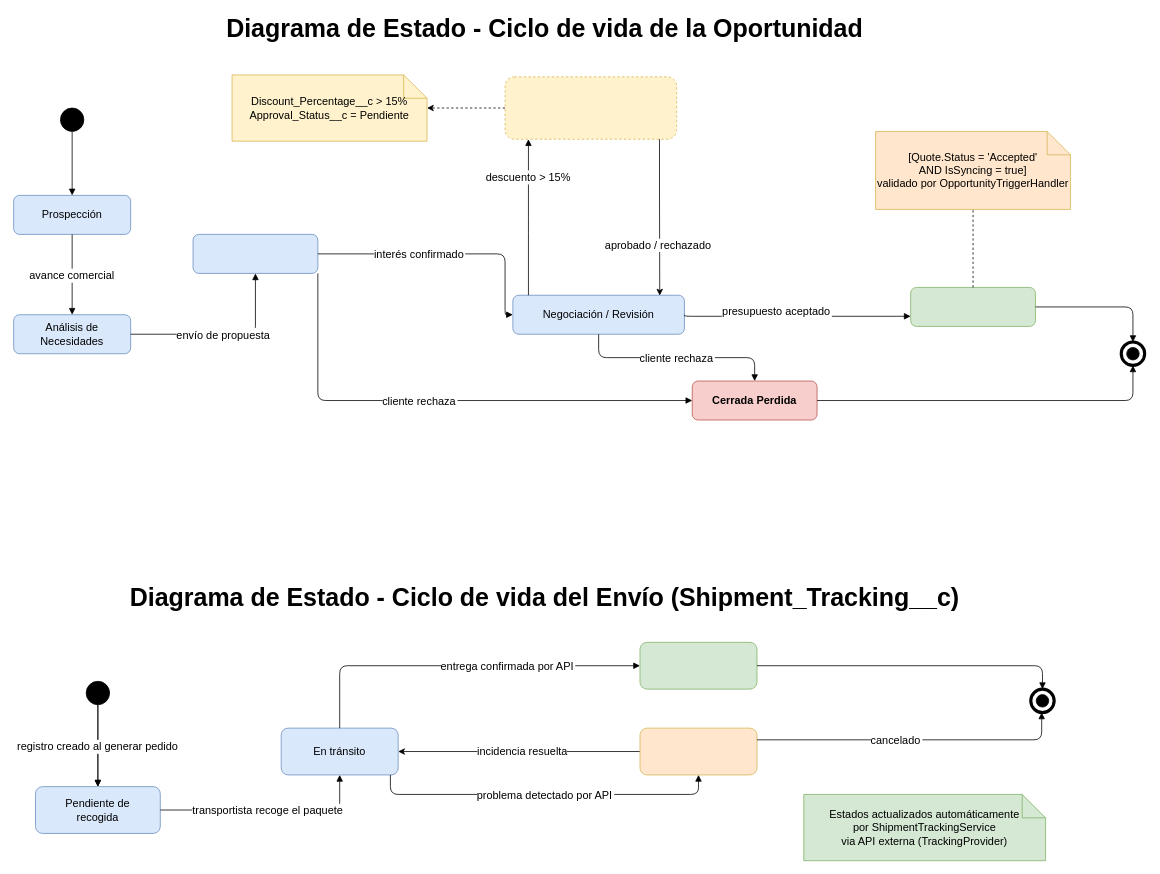
Some shapes in this 1160 by 874 pixel diagram are drawn without their labels. The shapes that lost their labels are listed below. From the top down, each one's box as (x1, y1, x2, y2) in pixels, then its label:
(504, 76, 677, 139): Aprobación de Descuento [Requires_Approval__c = true]
(192, 234, 318, 273): Propuesta / Precio
(910, 287, 1035, 326): Cerrada Ganada
(639, 642, 757, 689): Entregado
(639, 727, 757, 775): Incidencia
